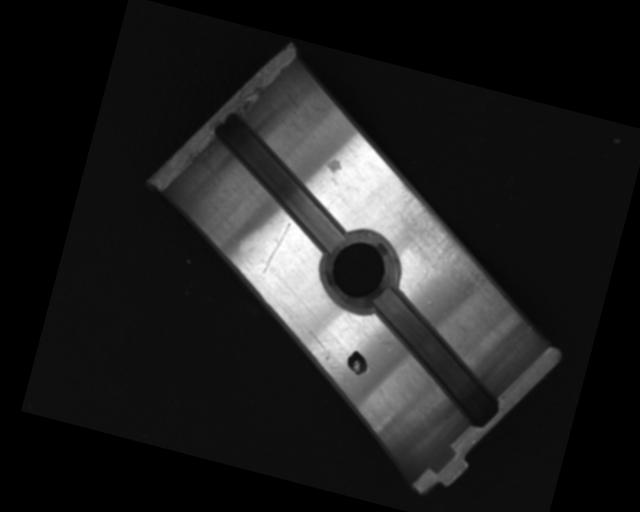blot: (343, 347, 371, 378)
bruise: (323, 155, 344, 176)
gap: (191, 109, 367, 257), (348, 284, 520, 429)
hole: (309, 221, 409, 321)
nick: (260, 218, 291, 278)
scratch: (375, 178, 518, 298)
